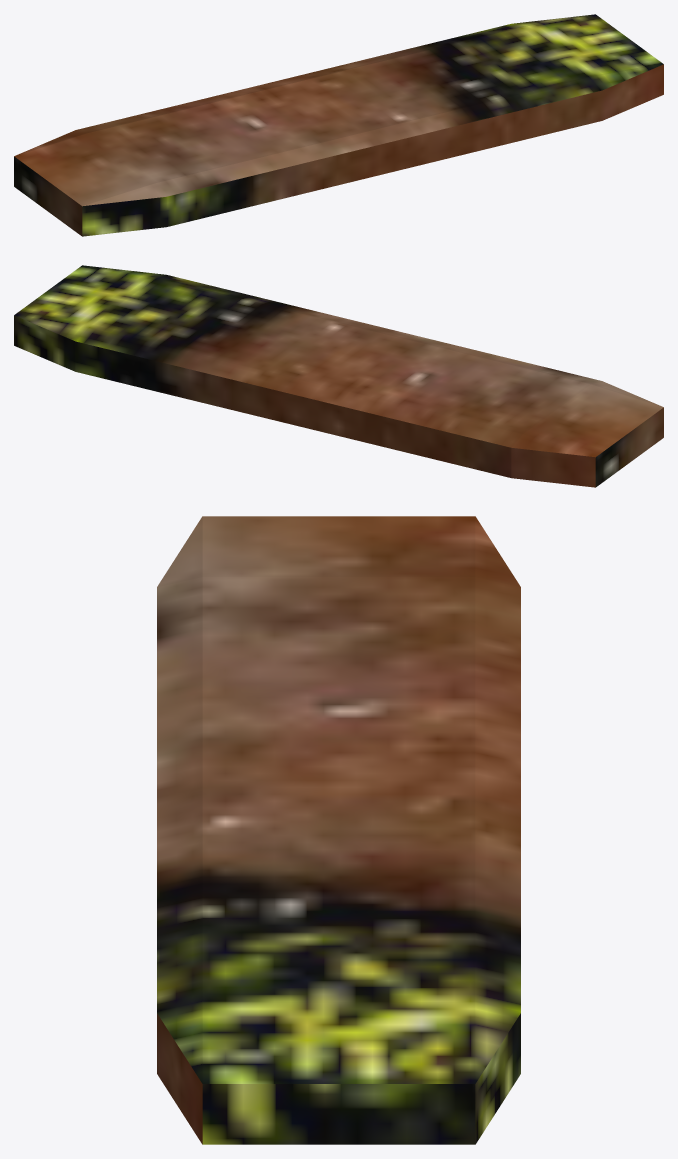
The model's file is plat_4.fbx.
3 renders of one model, top to bottom at view 1: azimuth 30°, elevation 25°; view 2: azimuth 150°, elevation 25°; view 3: azimuth 270°, elevation 25°, orthographic. The views are drawn at different scales.
Parts seen in each view (by area): view 1: Cube.003; view 2: Cube.003; view 3: Cube.003.
Part boxes in pixels (x1,y1,x2,y2): Cube.003: [14, 14, 663, 236]; Cube.003: [14, 265, 663, 487]; Cube.003: [157, 516, 520, 1144].
Size of the model in its own units: 525 by 34.97 by 142.
Materials: 1 (1 with a texture image).
